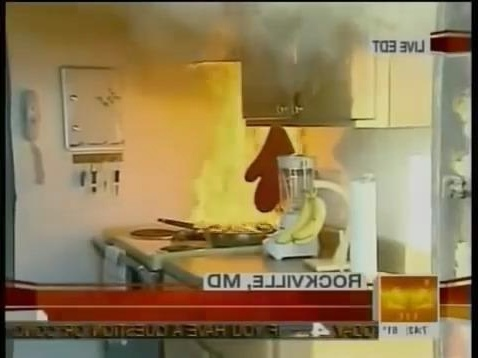fire: (163, 36, 321, 244)
